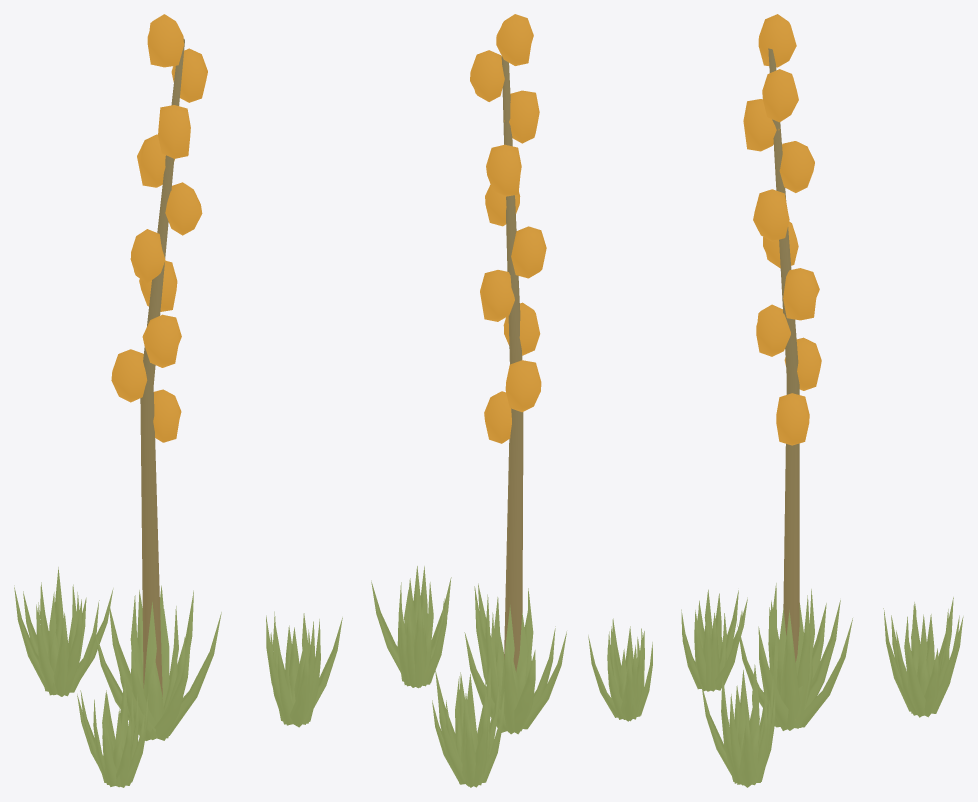
Rendered from Blender_Lechuguilla_1.glb.
3 views of the same model, side by side, from view 1: azimuth 30°, elevation 25°; view 2: azimuth 150°, elevation 25°; view 3: azimuth 270°, elevation 25° (orthographic). The views are drawn at different scales.
Parts seen in each view (by area): view 1: Blender_Lechuguilla_1; view 2: Blender_Lechuguilla_1; view 3: Blender_Lechuguilla_1.
Part boxes in pixels (bbox=[...]): Blender_Lechuguilla_1: bbox=[14, 14, 342, 787]; Blender_Lechuguilla_1: bbox=[371, 14, 652, 787]; Blender_Lechuguilla_1: bbox=[681, 14, 963, 787].
Size of the model in its own units: 1.04 by 2.72 by 0.9747.
